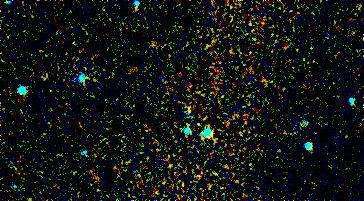star: (32, 59, 62, 89)
